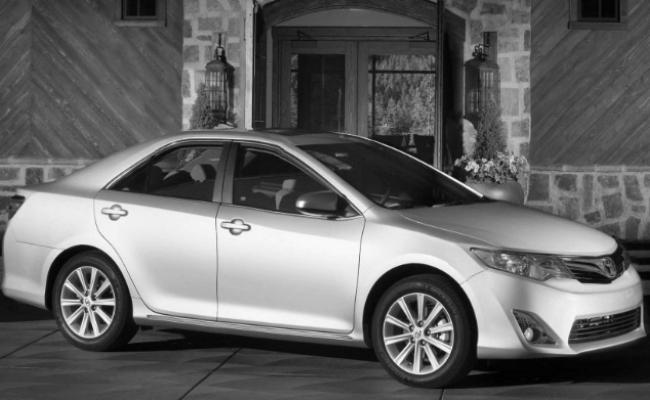car: (5, 133, 647, 390)
